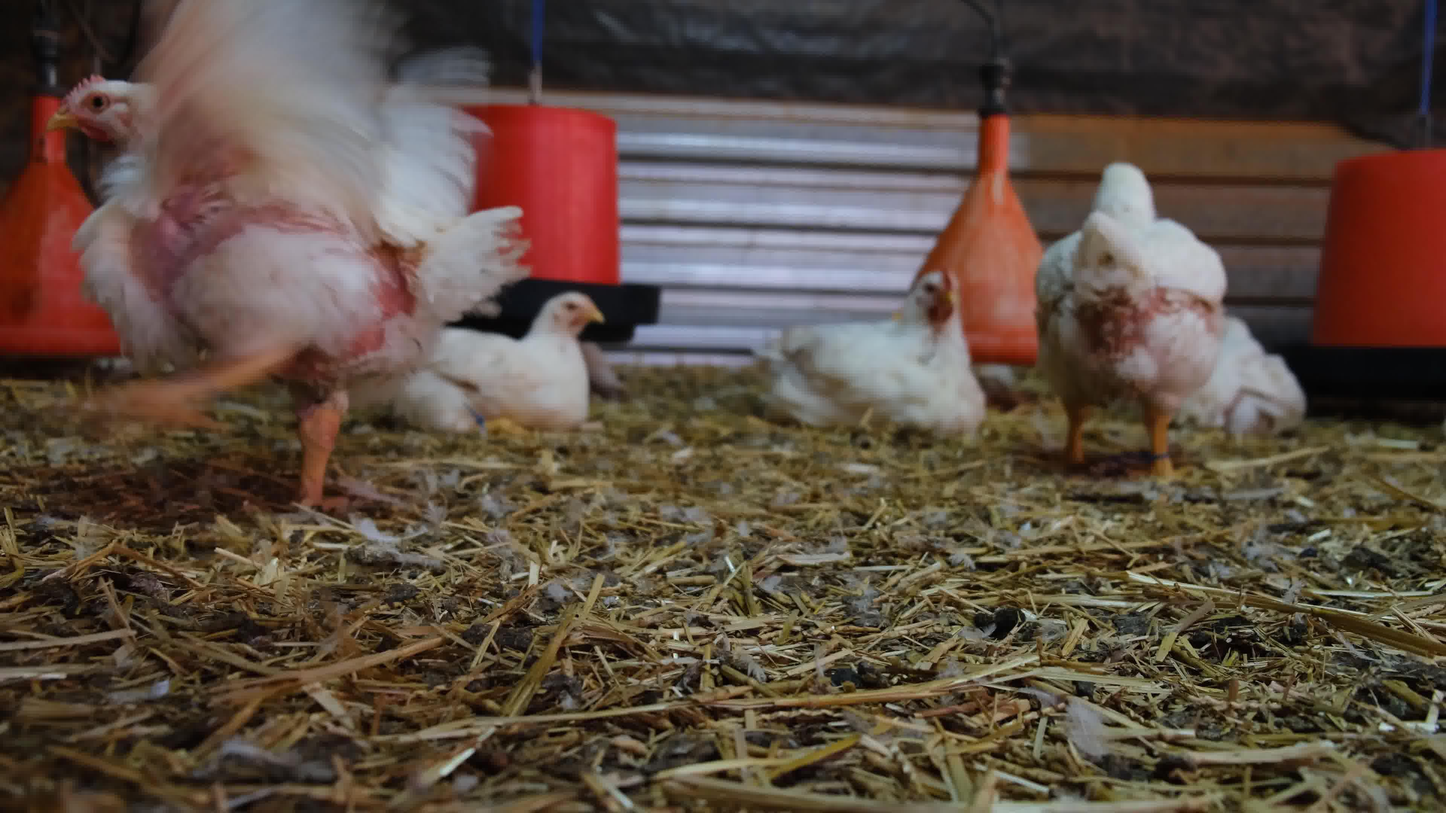AbNormal: (721, 266, 989, 428), (369, 290, 607, 438), (1170, 318, 1309, 431)
Normal: (47, 0, 527, 495), (1038, 160, 1227, 495)
